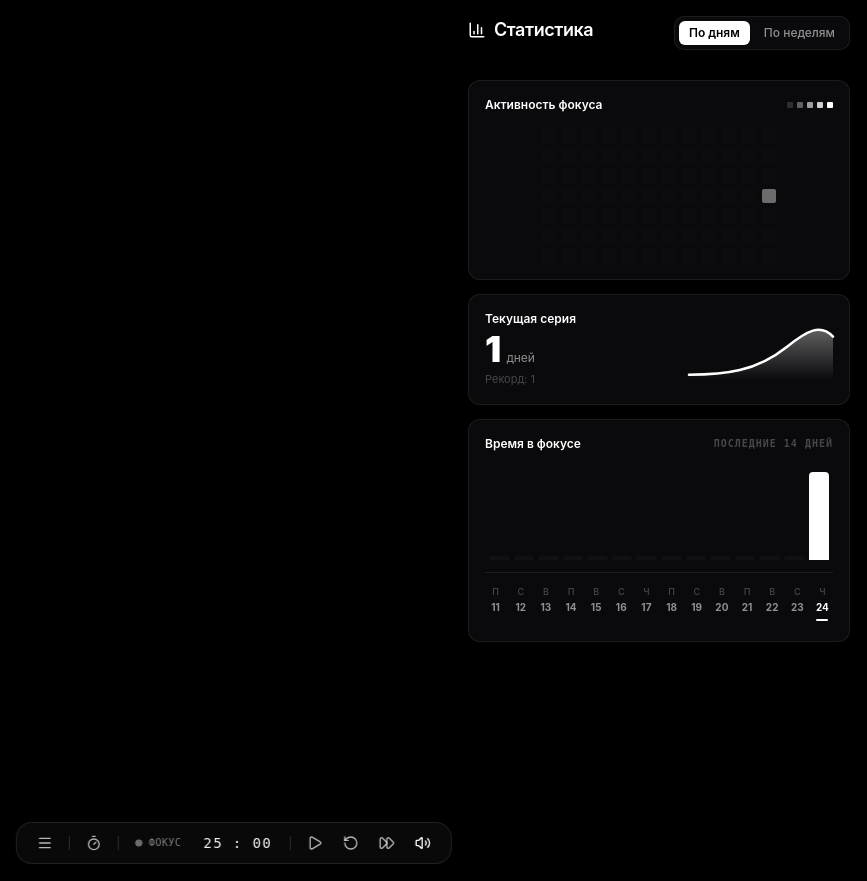
StatsView › switching the toggle changes the period between day and week
The image size is (867, 881).
Click the radio button with test id "toggle-period-week" at (799, 33), box [754,21,845,45]
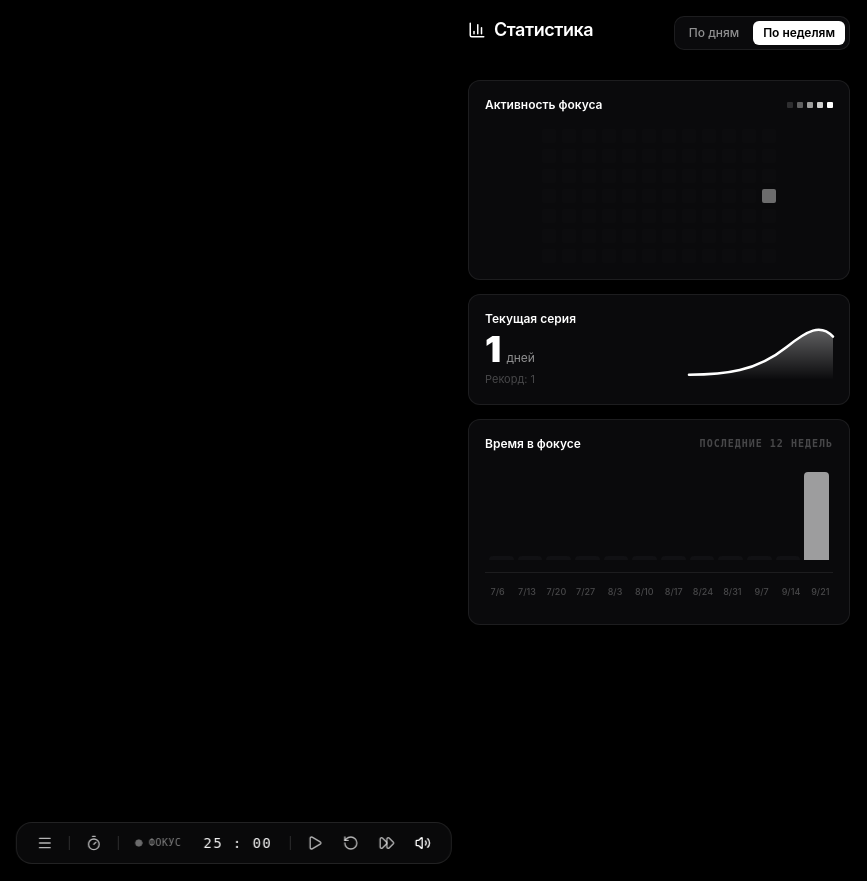
Expected: the text with test id "chart-period-subtitle" reads "ПОСЛЕДНИЕ 12 НЕДЕЛЬ", [700,438,833,449]
Click the radio button with test id "toggle-period-day" at (714, 33), box [679,21,749,45]
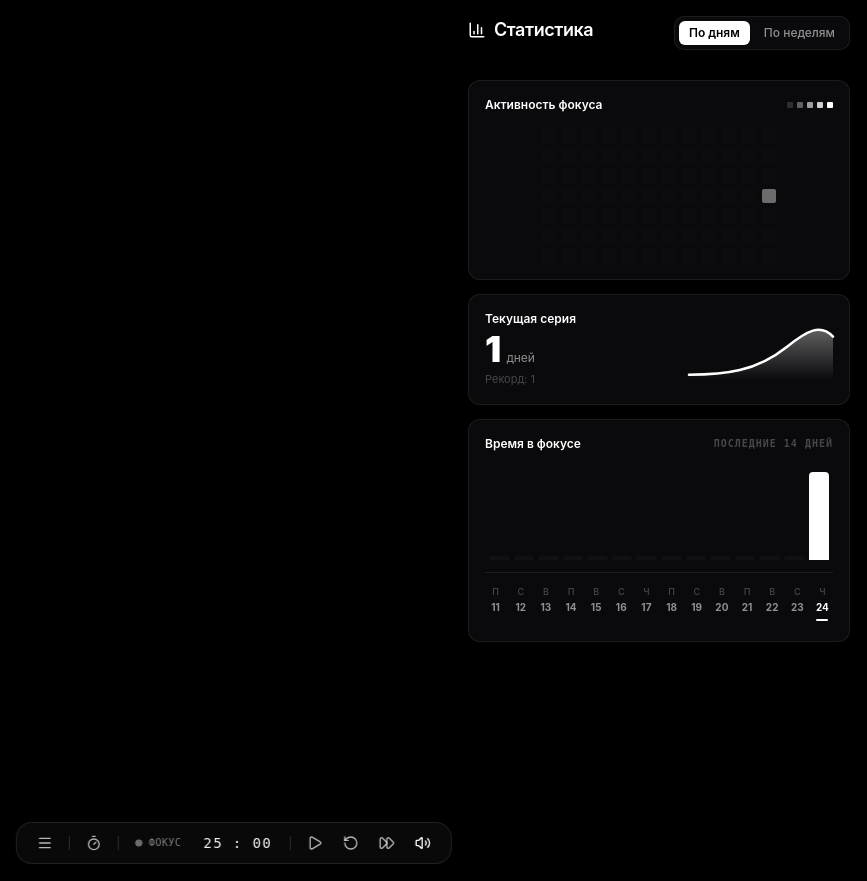
Expected: the text with test id "chart-period-subtitle" reads "ПОСЛЕДНИЕ 14 ДНЕЙ", [714,438,833,449]
